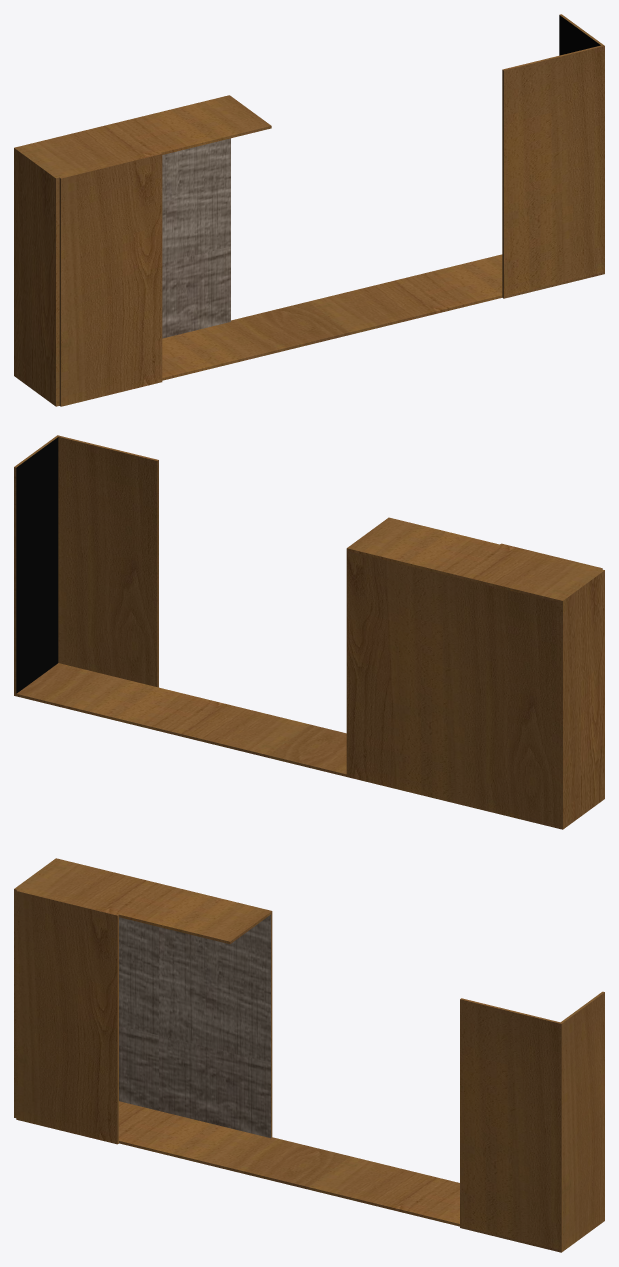
File: armarioV33.glb
The picture shows the model from 3 angles, top to bottom: view 1: azimuth 30°, elevation 25°; view 2: azimuth 150°, elevation 25°; view 3: azimuth 330°, elevation 25°; orthographic projection.
Visible parts, largest first — view 1: 3DGeom-1, 3DGeom-2, 3DGeom-3, 3DGeom-5, 3DGeom-6, 3DGeom-10, 3DGeom-9; view 2: 3DGeom-4, 3DGeom-2, 3DGeom-3, 3DGeom-6, 3DGeom-9, 3DGeom-10, 3DGeom-8; view 3: 3DGeom-5, 3DGeom-1, 3DGeom-2, 3DGeom-3, 3DGeom-8, 3DGeom-10, 3DGeom-6.
Part boxes in pixels (<box>): 3DGeom-1: <box>59,153,162,406</box>; 3DGeom-2: <box>502,45,604,298</box>; 3DGeom-3: <box>162,254,502,380</box>; 3DGeom-5: <box>162,138,230,338</box>; 3DGeom-6: <box>14,147,59,406</box>; 3DGeom-10: <box>18,95,271,177</box>; 3DGeom-9: <box>559,15,600,55</box>; 3DGeom-4: <box>346,551,559,825</box>; 3DGeom-2: <box>56,435,158,687</box>; 3DGeom-3: <box>14,663,559,828</box>; 3DGeom-6: <box>559,569,604,829</box>; 3DGeom-9: <box>16,437,58,693</box>; 3DGeom-10: <box>346,517,600,602</box>; 3DGeom-8: <box>14,436,57,695</box>; 3DGeom-5: <box>119,914,270,1137</box>; 3DGeom-1: <box>16,890,118,1144</box>; 3DGeom-2: <box>460,998,562,1252</box>; 3DGeom-3: <box>119,1101,604,1231</box>; 3DGeom-8: <box>561,991,604,1251</box>; 3DGeom-10: <box>18,859,272,943</box>; 3DGeom-6: <box>14,858,59,1117</box>.
Bounding box in the file's own units: 2.26 × 0.9 × 0.31.
Materials: 3 (2 with a texture image).
